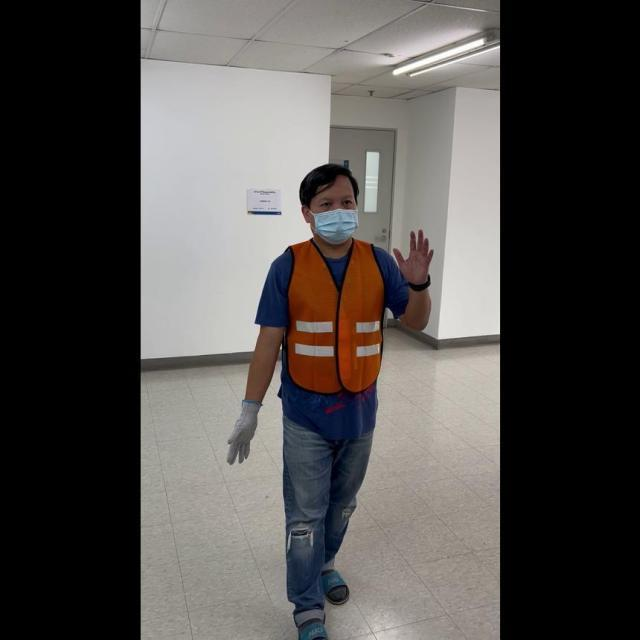bare_hand: (391, 223, 433, 286)
gloved_hand: (224, 396, 263, 464)
